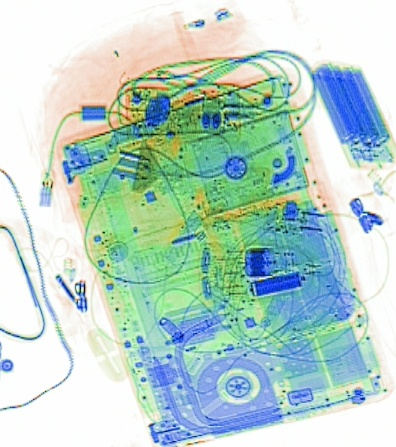powerbank: (308, 59, 394, 169)
